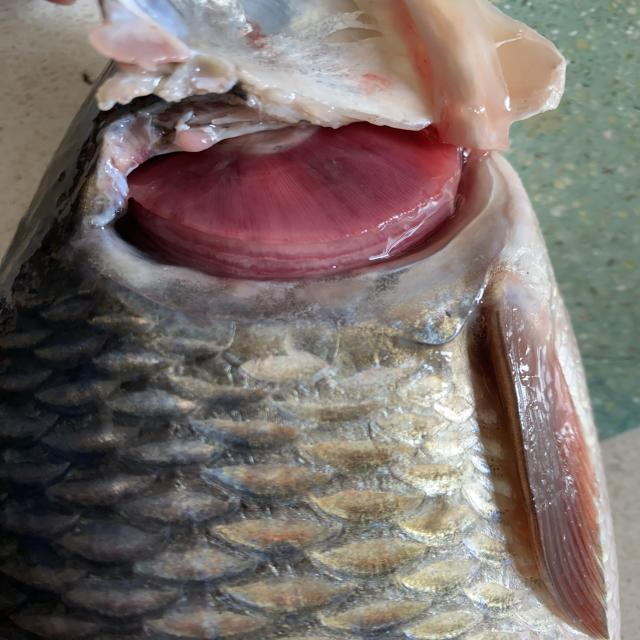Fresh: (68, 76, 523, 294)
